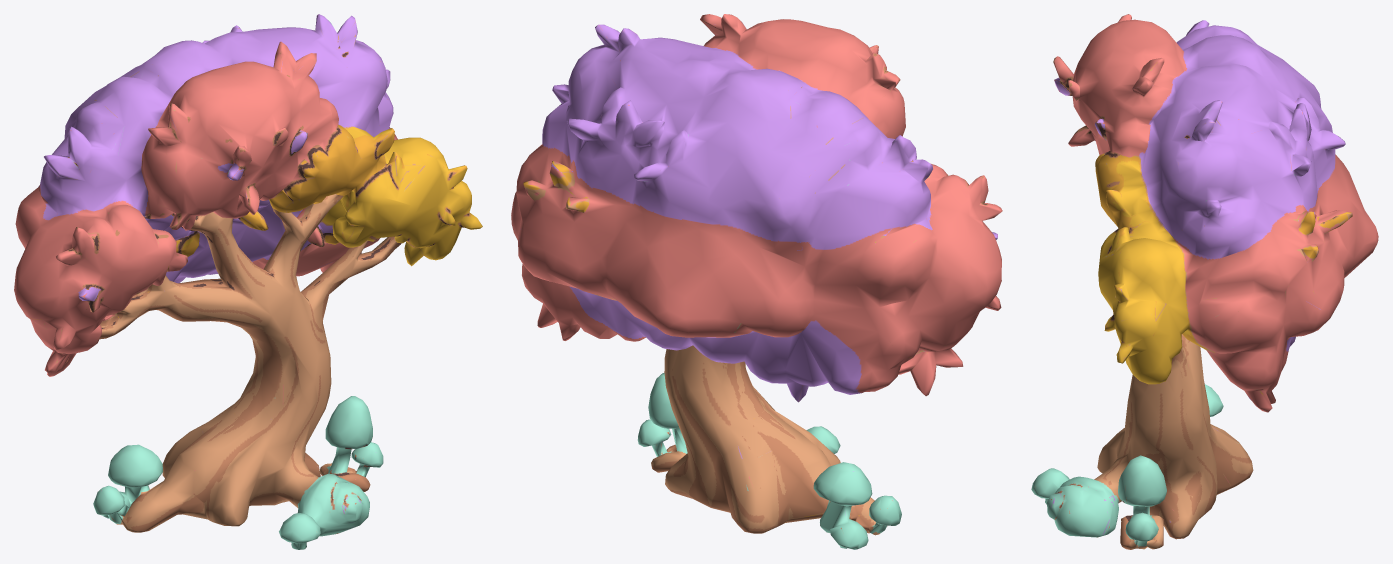
The model's file is tree_fall.glb.
3 views of the same model, side by side, from view 1: azimuth 30°, elevation 25°; view 2: azimuth 150°, elevation 25°; view 3: azimuth 270°, elevation 25° (orthographic). The views are drawn at different scales.
Parts seen in each view (by area): view 1: Mesh_0; view 2: Mesh_0; view 3: Mesh_0.
Part boxes in pixels (x1,y1,x2,y2): Mesh_0: (14,14,482,549); Mesh_0: (511,14,1002,549); Mesh_0: (1031,14,1378,549).
Size of the model in its own units: 1.9 by 1.89 by 1.29.
1 material, 1 textured.
